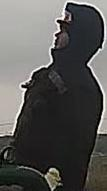helmet: (56, 6, 76, 27)
vest: (12, 64, 103, 190)
